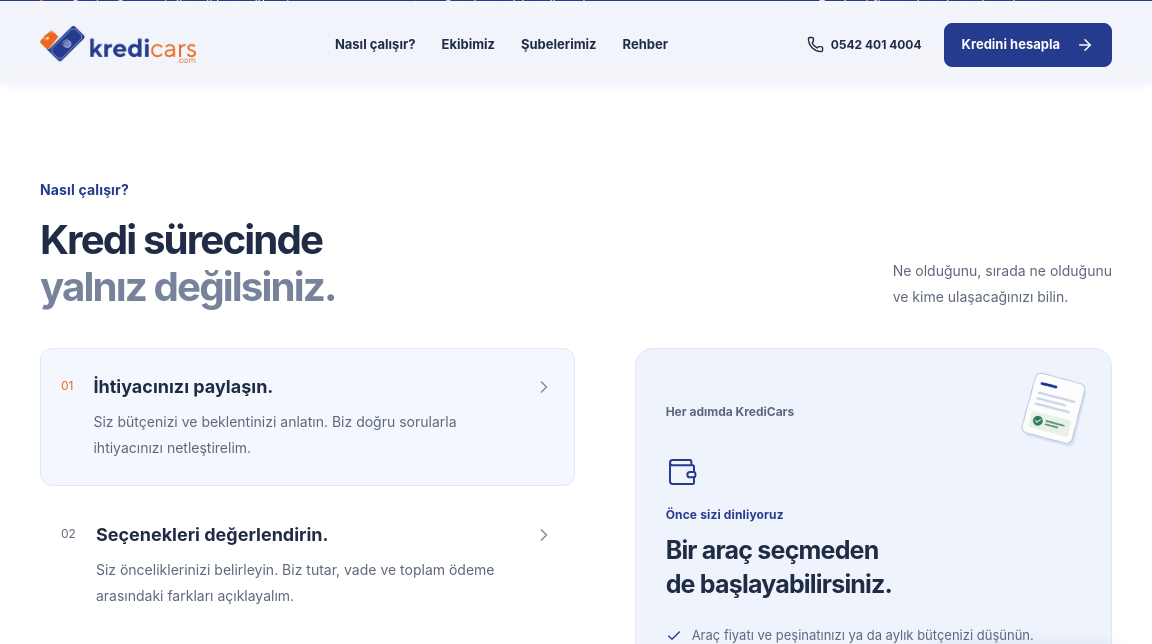
Scenario: process tabs expose their selected content and support keyboard navigation
The image size is (1152, 644).
(page scrolled)
Click the tab that starts with "İhtiyacınızı paylaşın." at (307, 417), box [40,348,575,486]
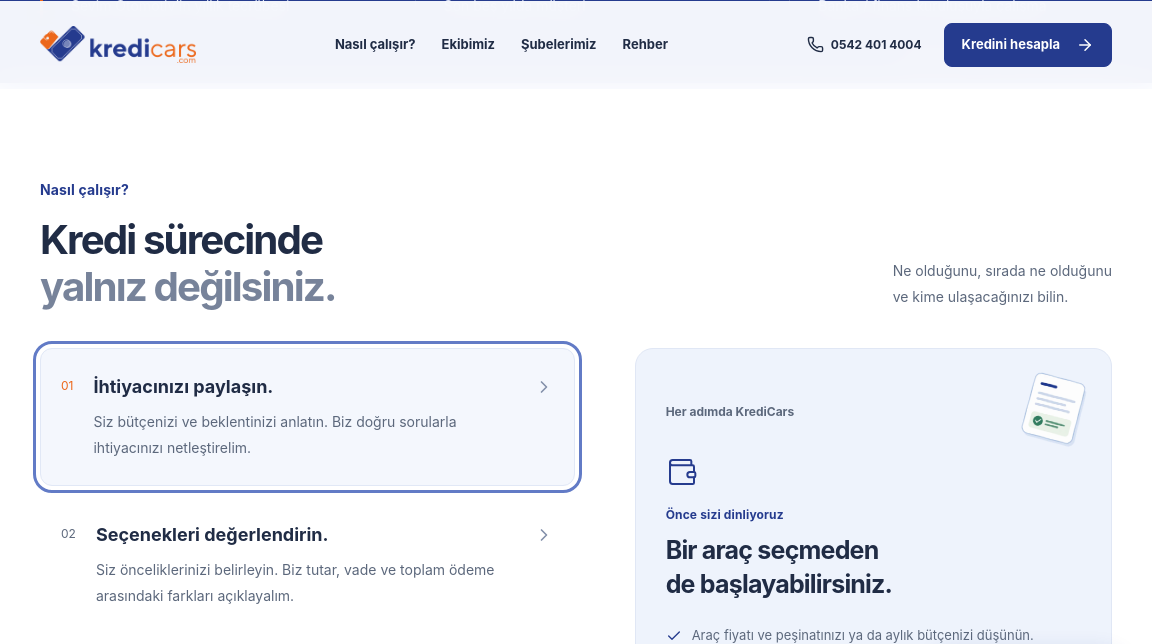
Press Arrowdown
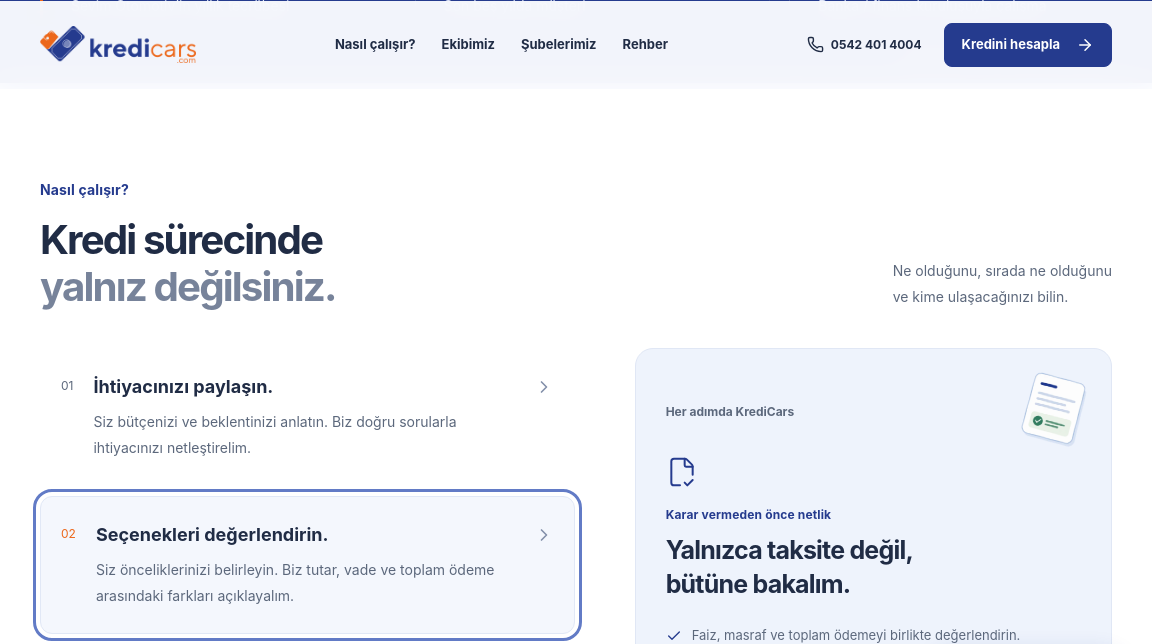
Check: the text "Karar vermeden önce netlik" is shown, box [666,507,831,522]
